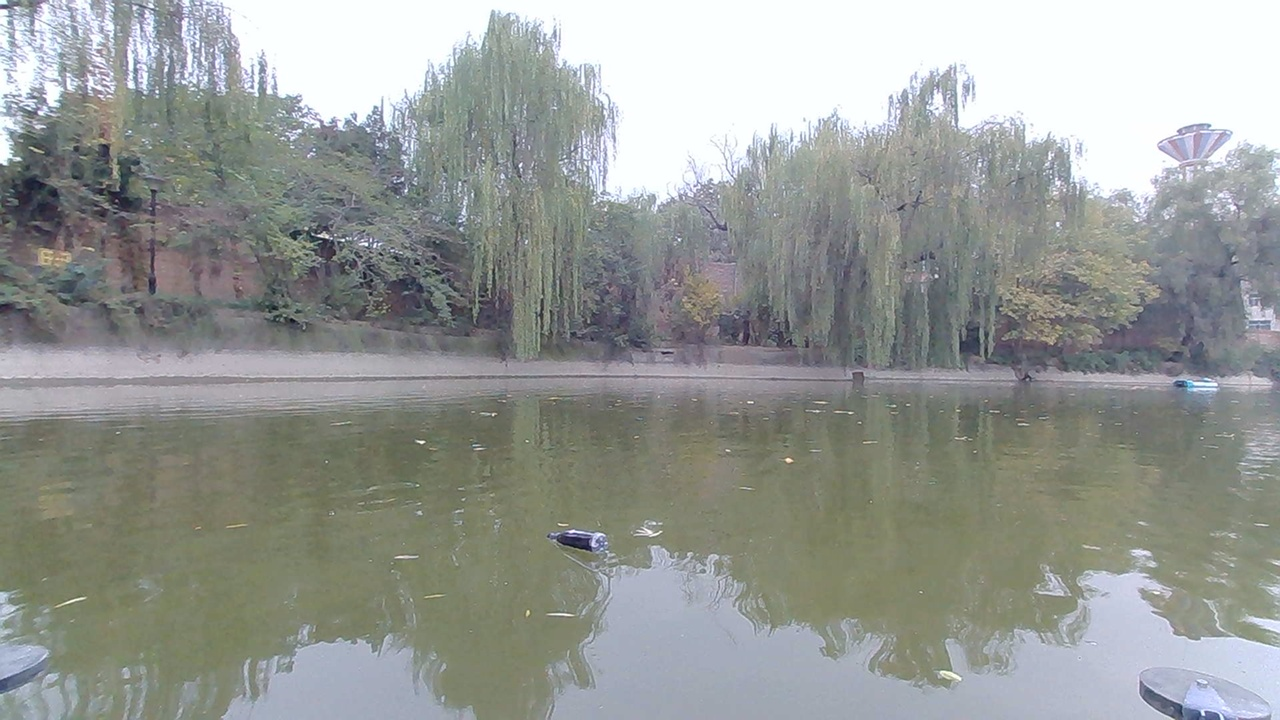bottle: (558, 527, 612, 561)
